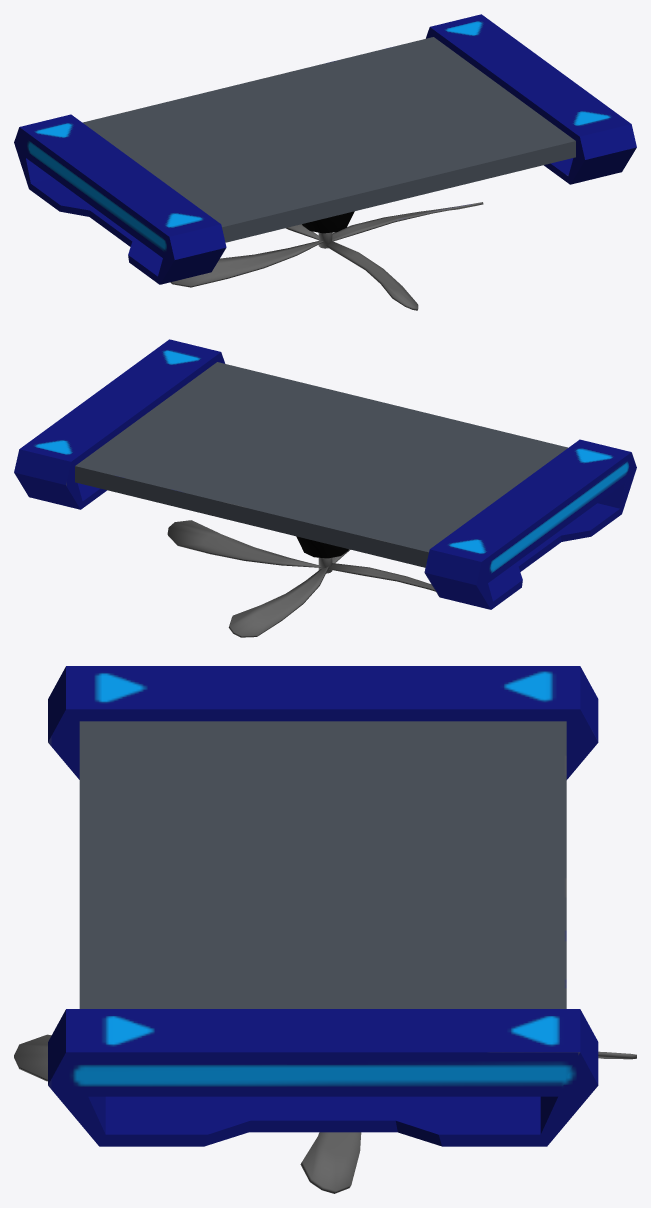
Rendered from oscillator_model_platform.glb.
3 renders of one model, top to bottom at view 1: azimuth 30°, elevation 25°; view 2: azimuth 150°, elevation 25°; view 3: azimuth 270°, elevation 25°, orthographic. The views are drawn at different scales.
Parts seen in each view (by area): view 1: Cube.001, Cylinder.001; view 2: Cube.001, Cylinder.001; view 3: Cube.001, Cylinder.001.
Part boxes in pixels (x1,y1,x2,y2): Cube.001: (14, 14, 636, 284); Cylinder.001: (170, 202, 483, 310); Cube.001: (14, 339, 636, 609); Cylinder.001: (167, 520, 435, 637); Cube.001: (48, 666, 598, 1146); Cylinder.001: (14, 1034, 636, 1193).
Size of the model in its own units: 6.6 by 1.7 by 4.5.
1 material, 1 textured.
